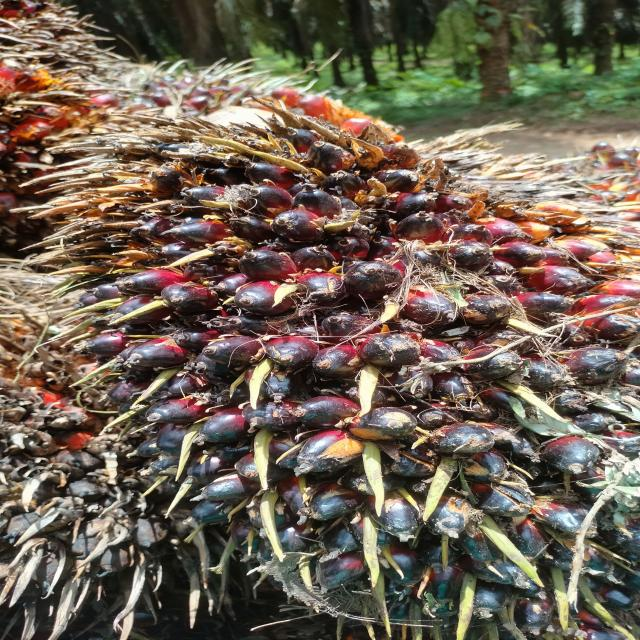fraksi 00: (27, 56, 640, 637)
